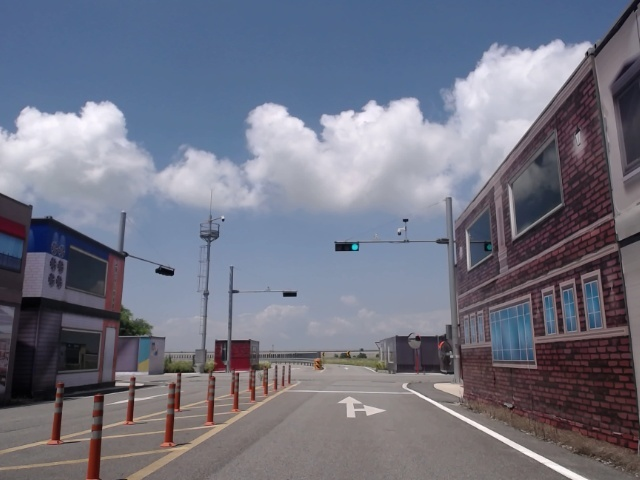green_3: (335, 243, 360, 251)
